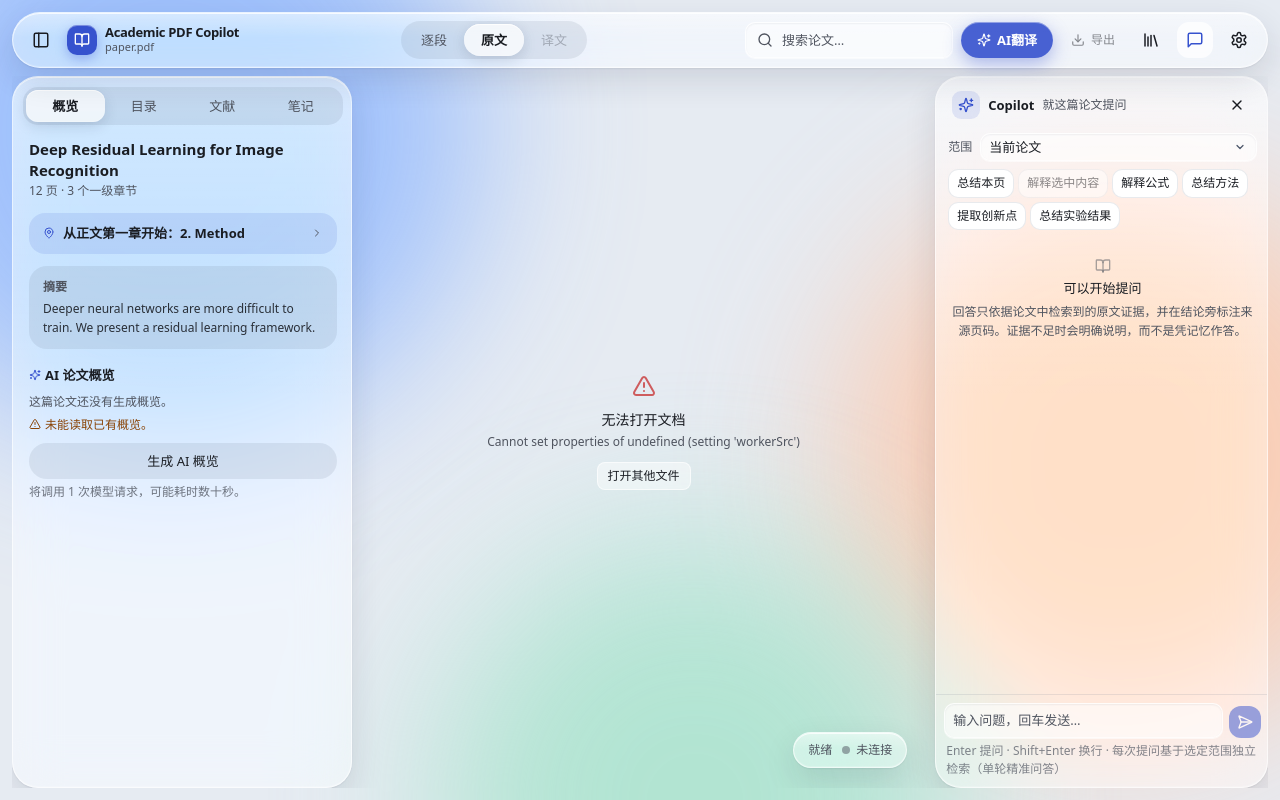
Test case: DS-QA-015 · generating › says which failure it was, not just that it failed
The width and height of the screenshot is (1280, 800).
Expected: the text "这篇论文还没有生成概览。" is shown, [29,393,173,410]
Step 1. Click the button with test id "overview-generate" → click(183, 461), box [29,443,337,479]
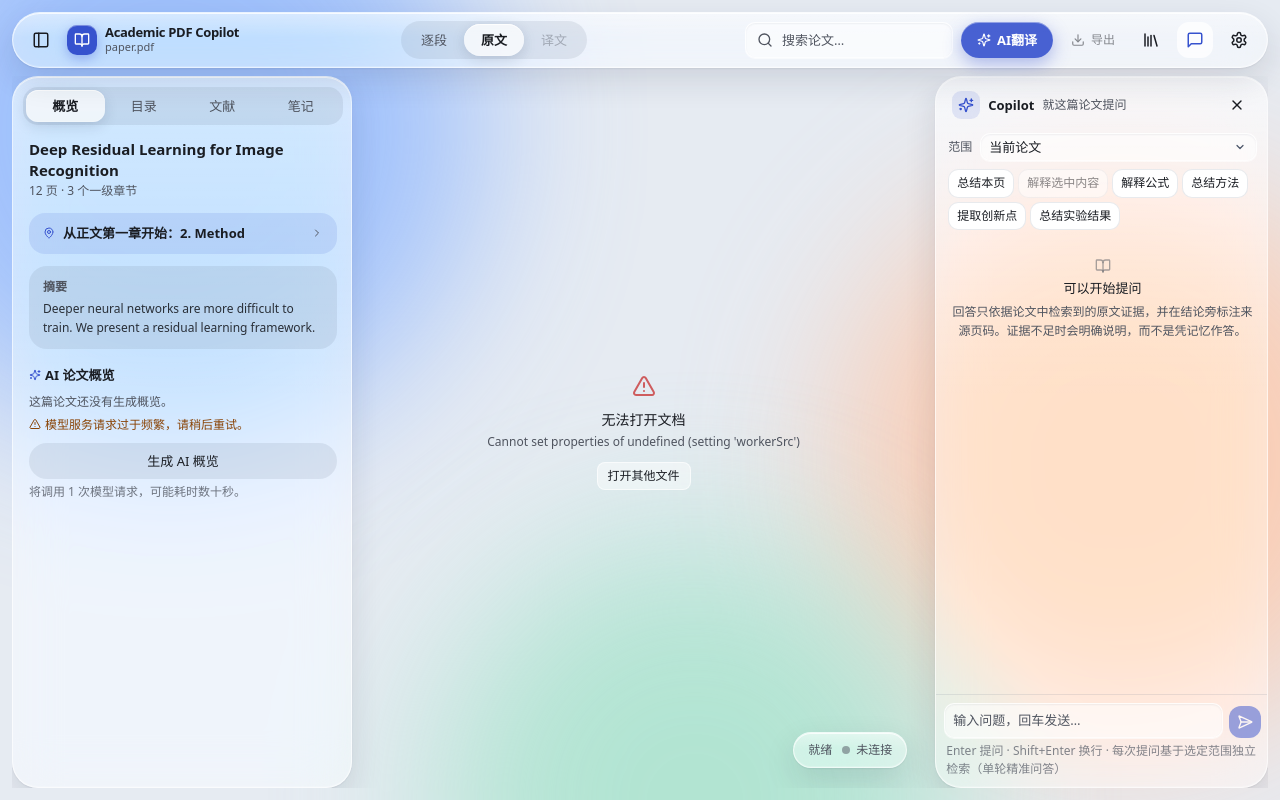
Expected: the message "模型服务请求过于频繁，请稍后重试。" is shown, [29,416,249,433]
Expected: the message with test id "overview-error" shows "请求过于频繁", [45,416,249,433]
